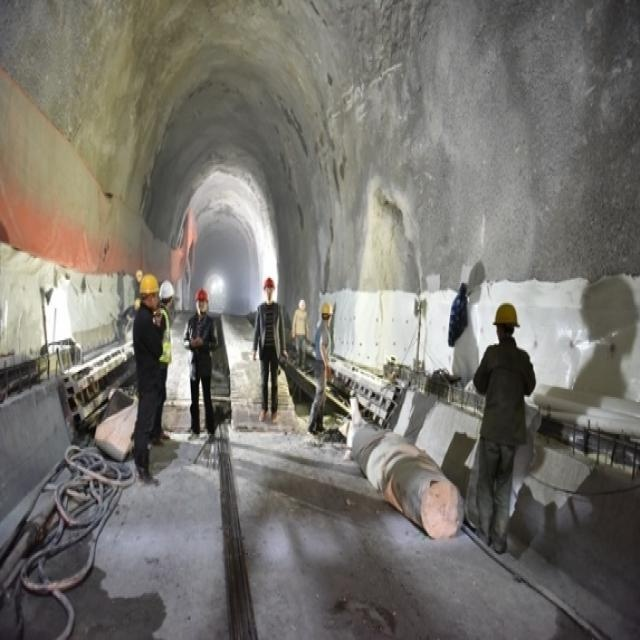Con_Casco: (493, 303, 520, 340), (138, 275, 160, 305)
Sin_Chaleco: (485, 345, 530, 427), (257, 301, 281, 355)
